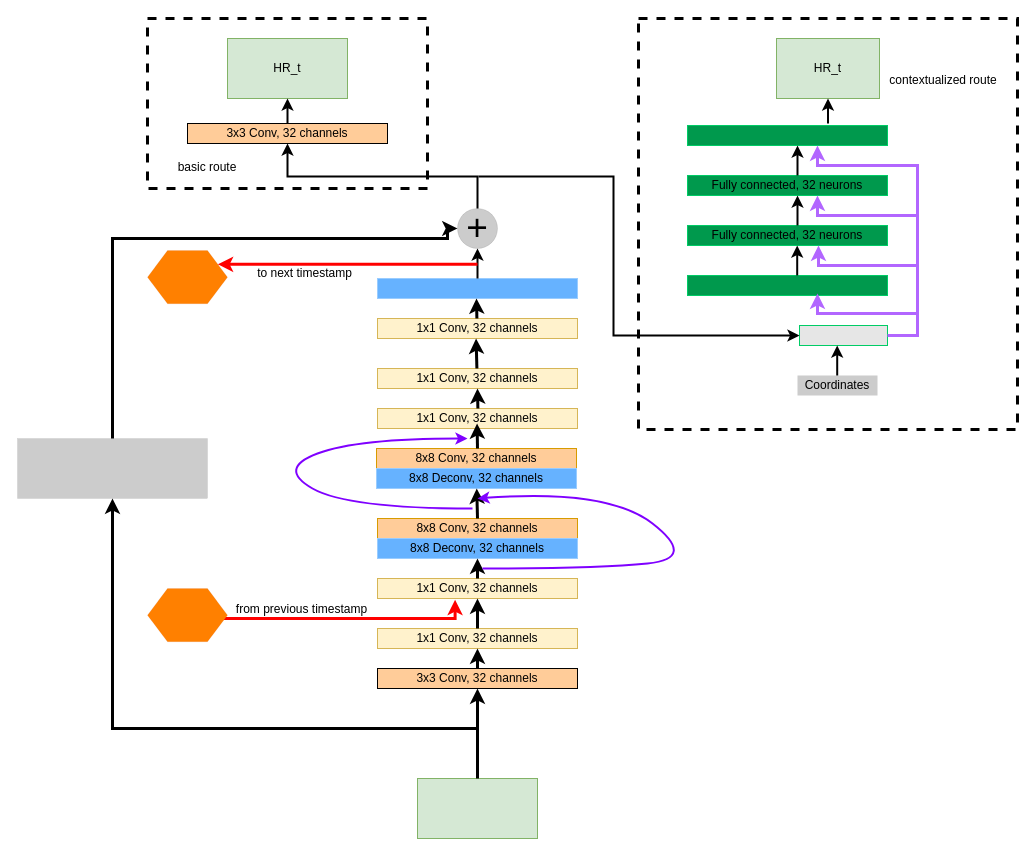
The diagram is 1036 pixels wide and 856 high, and some of its shapes have lost their labels. Each missing label, with the centre of its shape:
8x8 Deconv-Upscale, 32 channels: the point at 477,288
Bicubic Upscale: the point at 112,468
Concat: the point at 843,335
F t: the point at 187,276
F t - 1: the point at 187,614
Fully connected, 3 neurons: the point at 787,135
Fully connected, 64 neurons: the point at 787,285
LR_t: the point at 477,808
